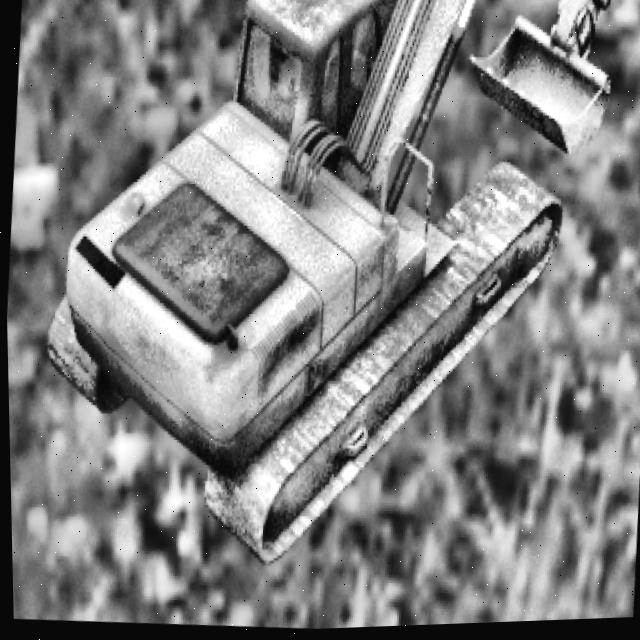excavator: (22, 0, 640, 596)
